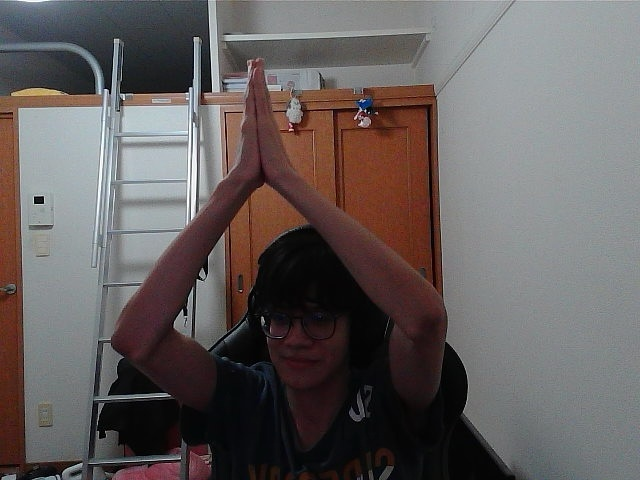pray: (252, 69, 262, 170)
